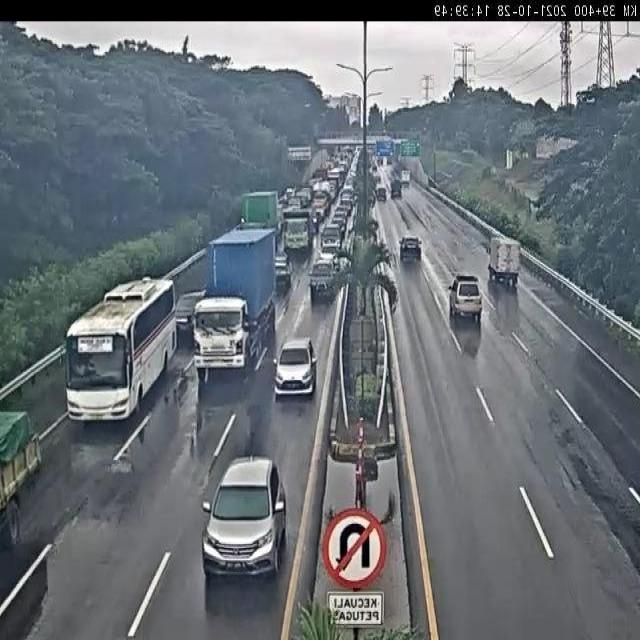Bus: (60, 278, 170, 451)
Car: (202, 456, 287, 586), (303, 253, 343, 307), (276, 346, 316, 397), (448, 273, 482, 321), (399, 235, 423, 262), (336, 150, 352, 174), (367, 150, 378, 172), (376, 180, 386, 201)
Truck: (195, 229, 272, 387), (488, 227, 526, 294), (281, 206, 313, 256)
